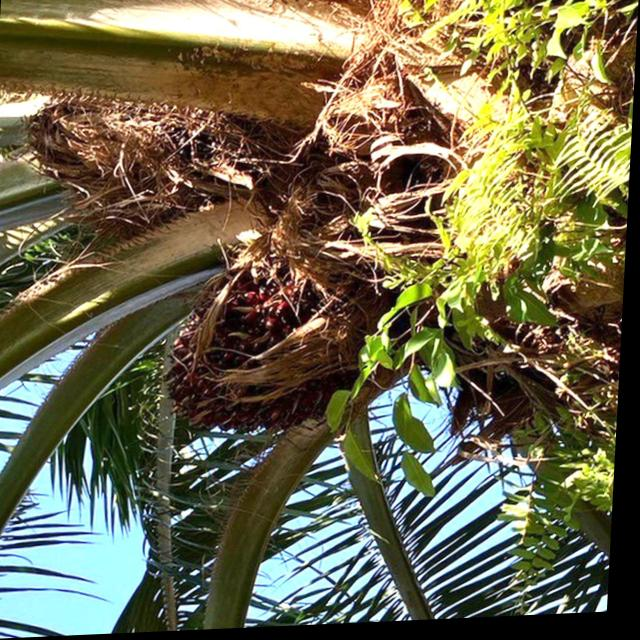ripe: (147, 241, 412, 456)
